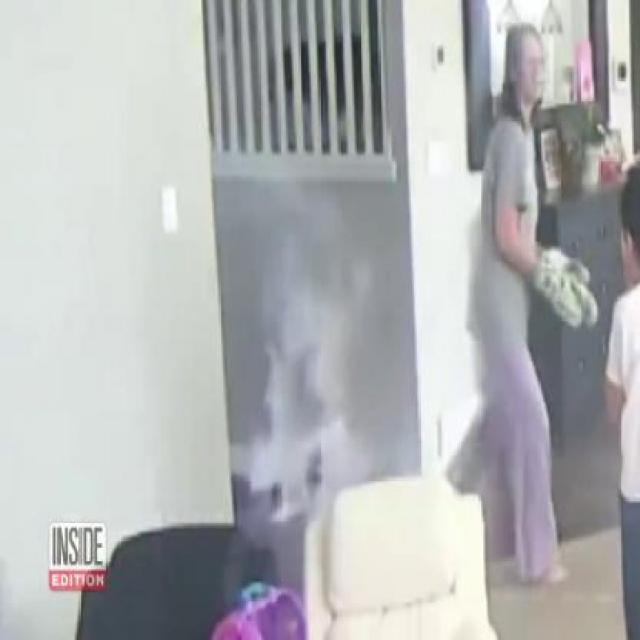smoke: (250, 236, 378, 512)
